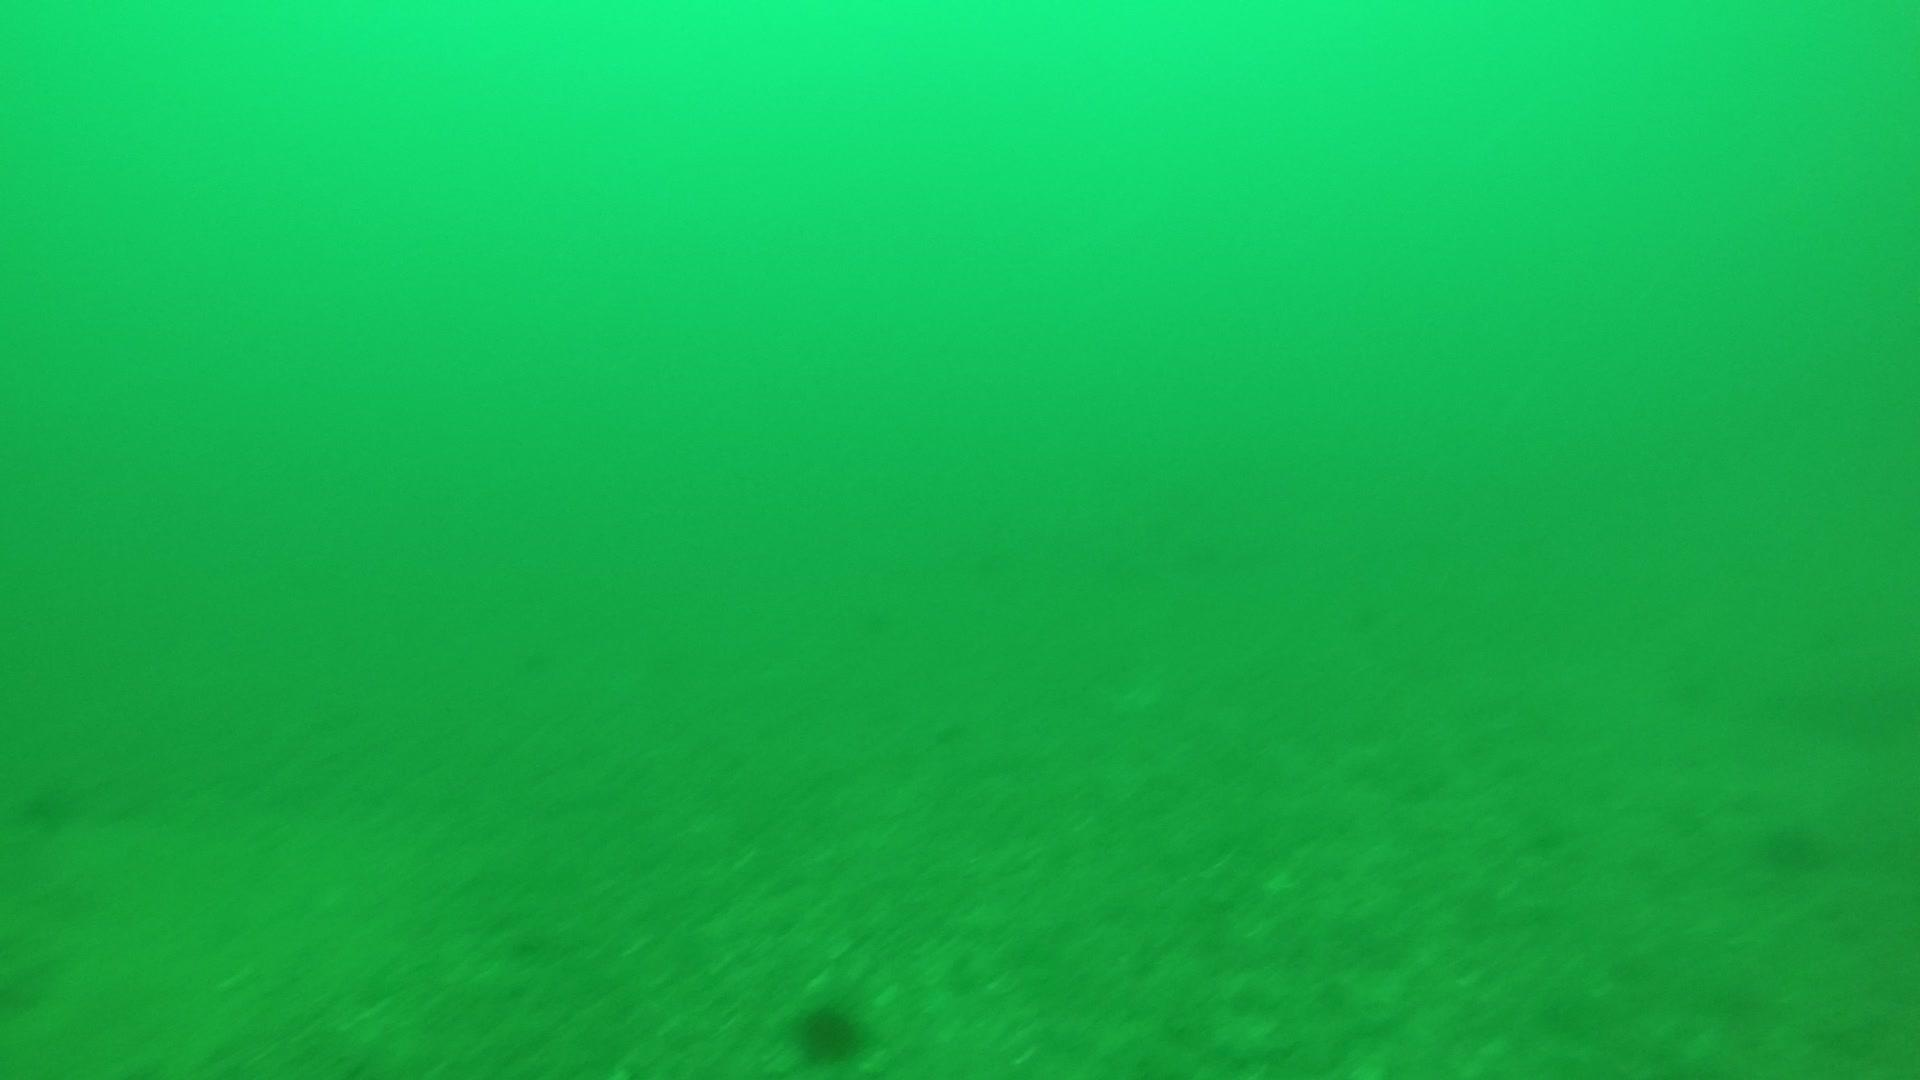echinus: (789, 994, 872, 1067), (1753, 814, 1833, 878)
